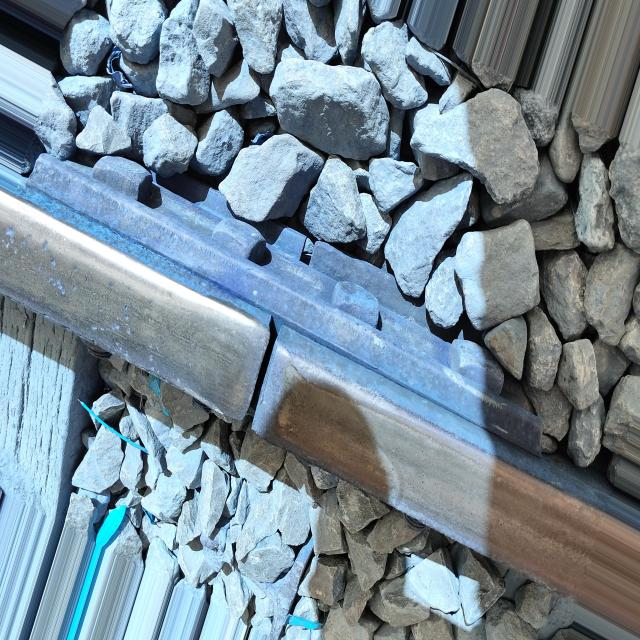crack: (218, 302, 293, 452)
